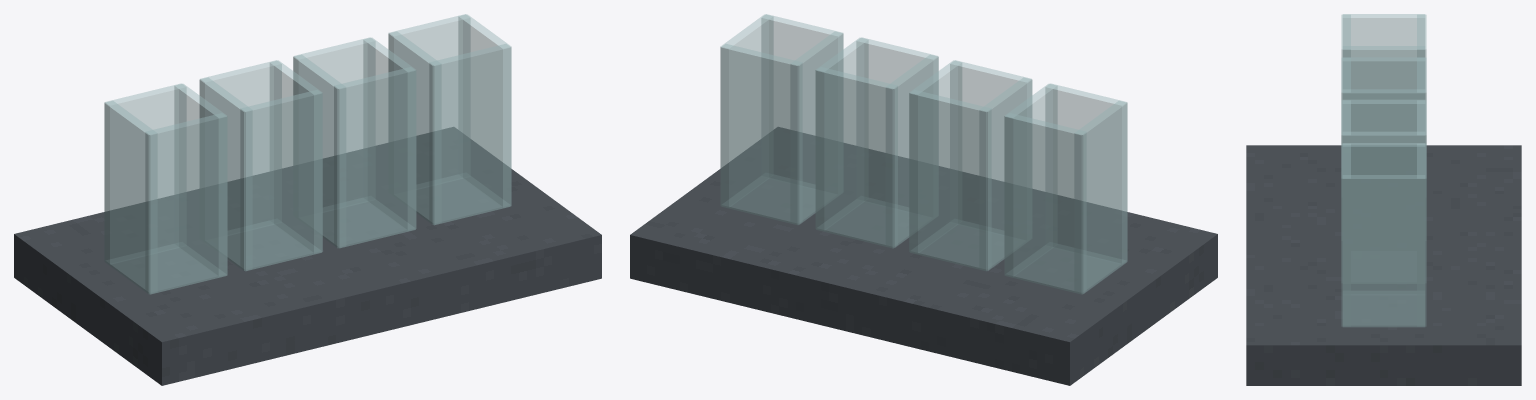
File: cuvettes.glb
The picture shows the model from 3 angles, left to right: view 1: azimuth 30°, elevation 25°; view 2: azimuth 150°, elevation 25°; view 3: azimuth 270°, elevation 25°; orthographic projection. The views are drawn at different scales.
Visible parts, largest first — view 1: block_glass cell wall (×16), block_cuvette carrier, block_square cell base (×4); view 2: block_glass cell wall (×16), block_cuvette carrier, block_square cell base (×4); view 3: block_cuvette carrier, block_glass cell wall (×16), block_square cell base.
Boxes of the visible parts, box(x1,y1,x2,y2) form: block_glass cell wall (×16): box(104, 14, 511, 294); block_cuvette carrier: box(14, 127, 601, 385); block_square cell base (×4): box(105, 177, 510, 294); block_glass cell wall (×16): box(720, 14, 1127, 294); block_cuvette carrier: box(630, 127, 1217, 385); block_square cell base (×4): box(721, 177, 1125, 294); block_cuvette carrier: box(1246, 145, 1521, 385); block_glass cell wall (×16): box(1341, 14, 1426, 327); block_square cell base: box(1343, 294, 1424, 326).
Bounding box in the file's own units: 0.1197 × 0.0529 × 0.0697.
2 materials, 2 textured.
